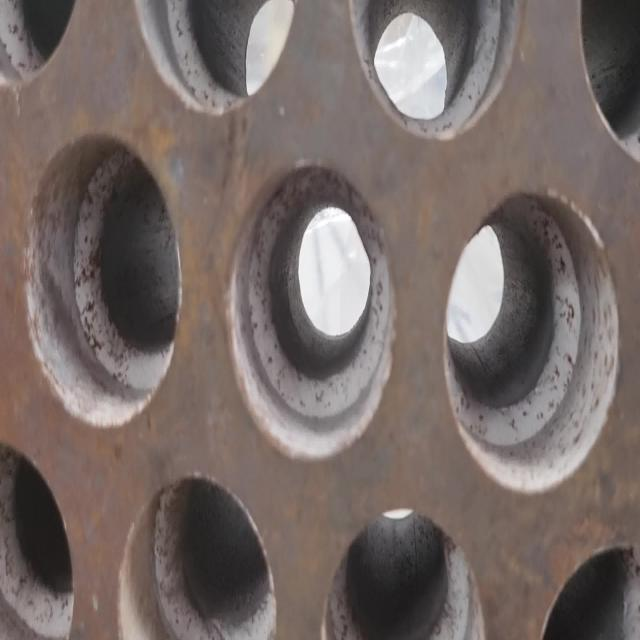Hole: (443, 186, 620, 496), (227, 162, 396, 462), (24, 131, 182, 429), (117, 470, 277, 640), (350, 0, 522, 143), (321, 504, 488, 640), (130, 1, 300, 117)
